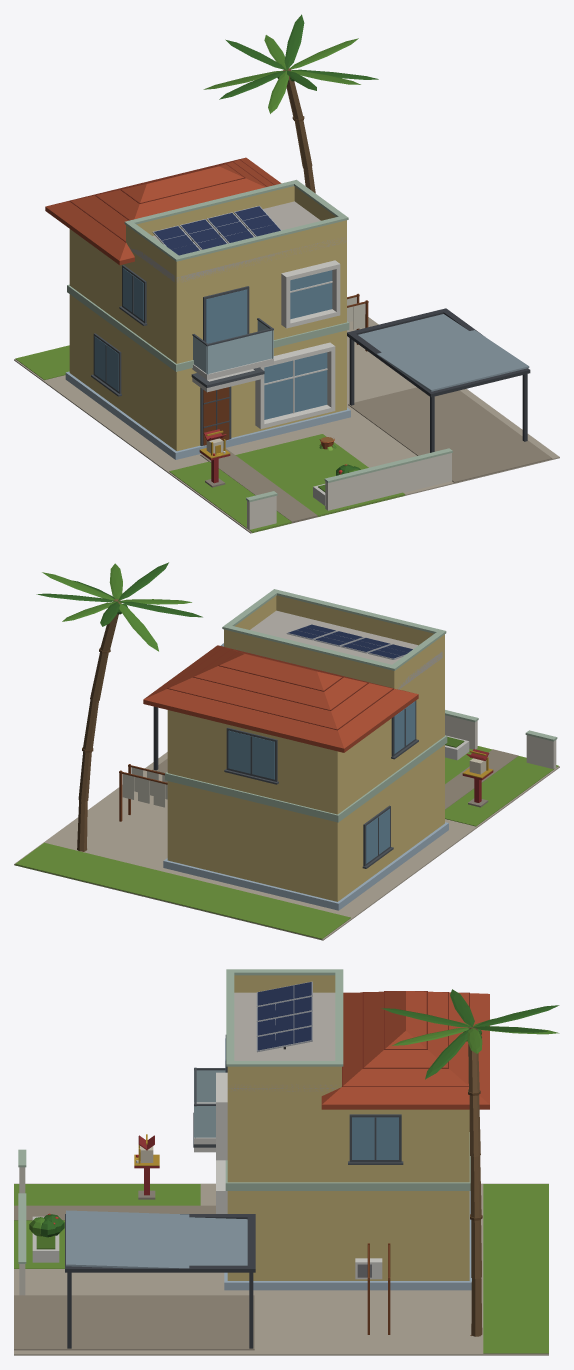
Rendered from house12_1.glb.
The picture shows the model from 3 angles, top to bottom: view 1: azimuth 30°, elevation 25°; view 2: azimuth 150°, elevation 25°; view 3: azimuth 270°, elevation 25°; orthographic projection. The views are drawn at different scales.
Visible parts, largest first — view 1: body; view 2: body; view 3: body.
Part boxes in pixels (x1,y1,x2,y2): body: [14, 14, 559, 533]; body: [14, 562, 559, 940]; body: [14, 969, 559, 1355].
Bounding box in the file's own units: 12.16 × 10.55 × 16.23.
